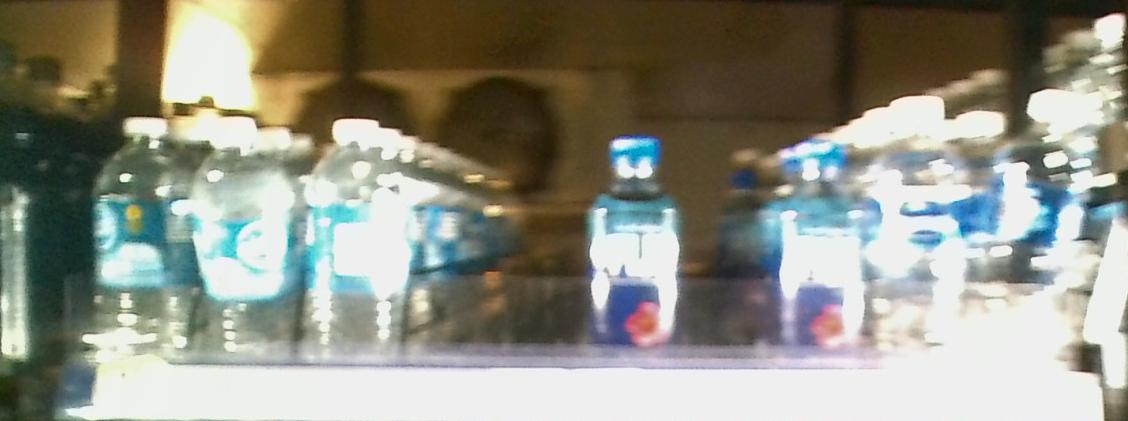bottle: (185, 108, 294, 368), (305, 101, 399, 367), (88, 114, 180, 367), (588, 126, 683, 362), (783, 141, 874, 360)
